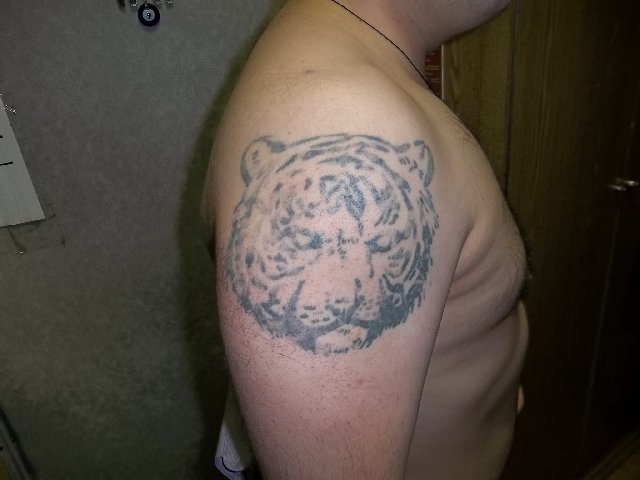tatu5_tigr: (209, 116, 461, 368)
